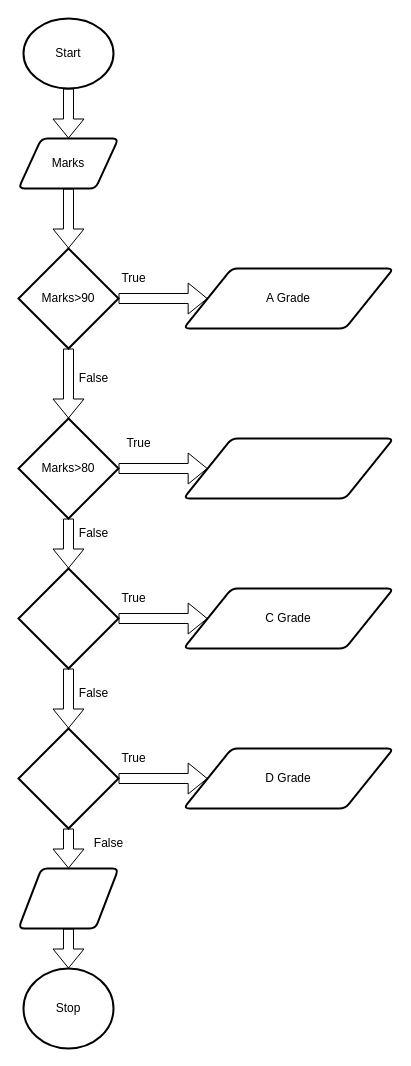
Some shapes in this 411 by 1066 pixel diagram are drawn without their labels. The box of each missing label's shape, as (x1, y1, x2, y2) in pixels:
B Grade: (182, 437, 394, 499)
Falied: (17, 867, 119, 929)
Marks>40: (17, 727, 119, 829)
Marks>60: (17, 567, 119, 669)
